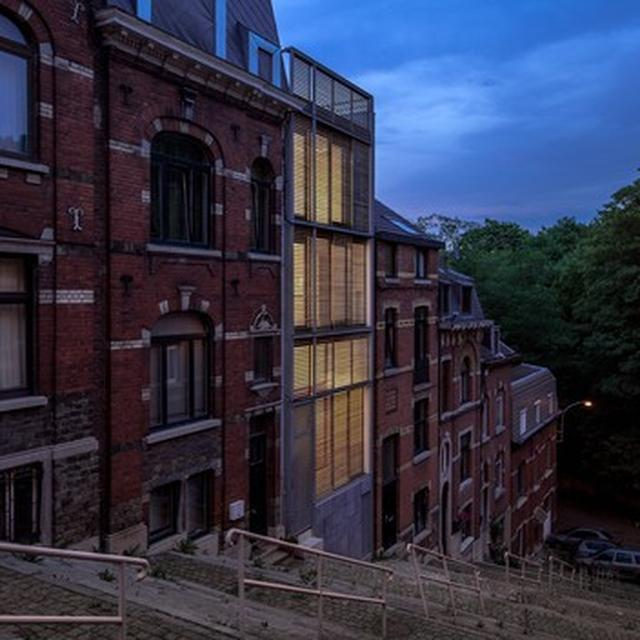building: (98, 1, 284, 548), (0, 0, 101, 546), (283, 0, 378, 571), (375, 192, 437, 558), (435, 263, 483, 552), (508, 354, 558, 563), (480, 312, 510, 554)
